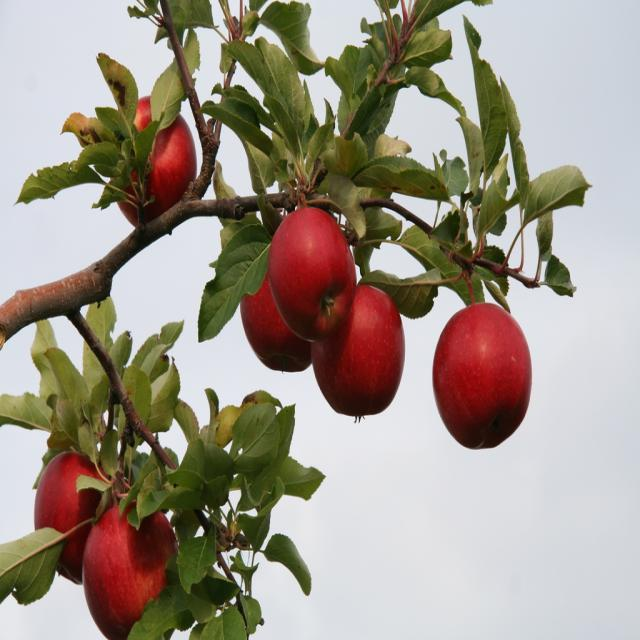Healty Apple: (430, 294, 535, 447), (308, 278, 406, 422), (82, 498, 181, 639), (109, 90, 196, 231), (269, 204, 356, 339), (34, 449, 118, 586), (238, 268, 312, 371)
